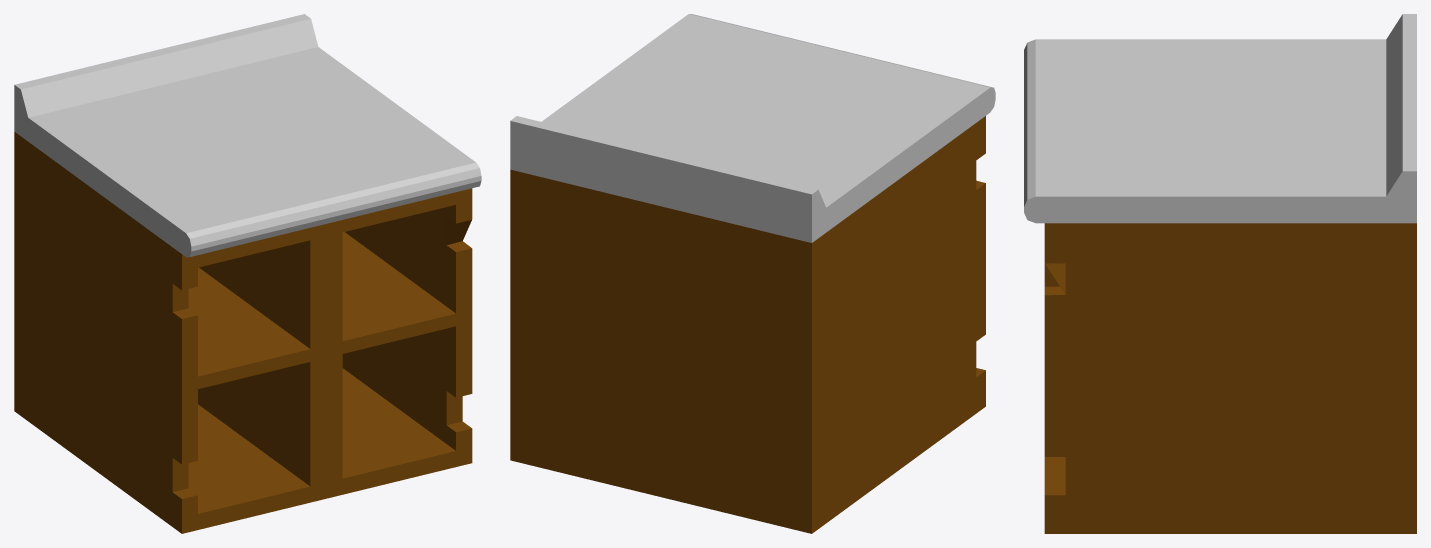
File: _upboard_2.fbx
3 renders of one model, left to right at view 1: azimuth 30°, elevation 25°; view 2: azimuth 150°, elevation 25°; view 3: azimuth 270°, elevation 25°, orthographic. The views are drawn at different scales.
Visible parts, largest first — view 1: Cube.140; view 2: Cube.140; view 3: Cube.140.
Part boxes in pixels (x1,y1,x2,y2): Cube.140: (14,14,481,533); Cube.140: (510,14,995,533); Cube.140: (1024,14,1416,533).
Bounding box in the file's own units: 101 × 108 × 106.
